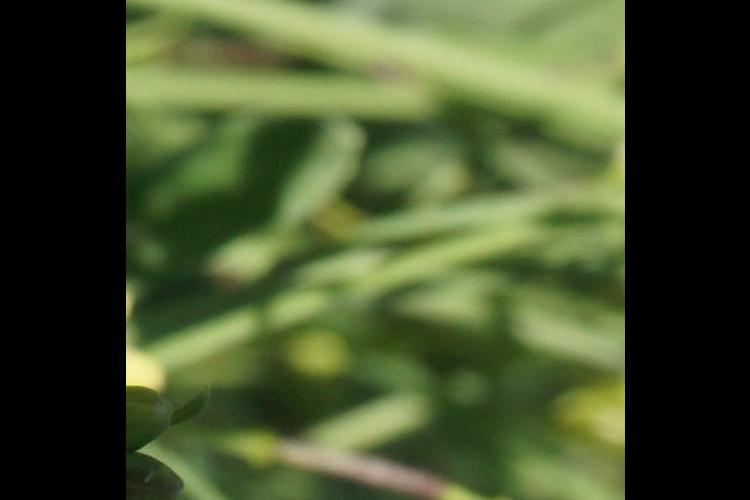pod: (271, 421, 516, 500)
